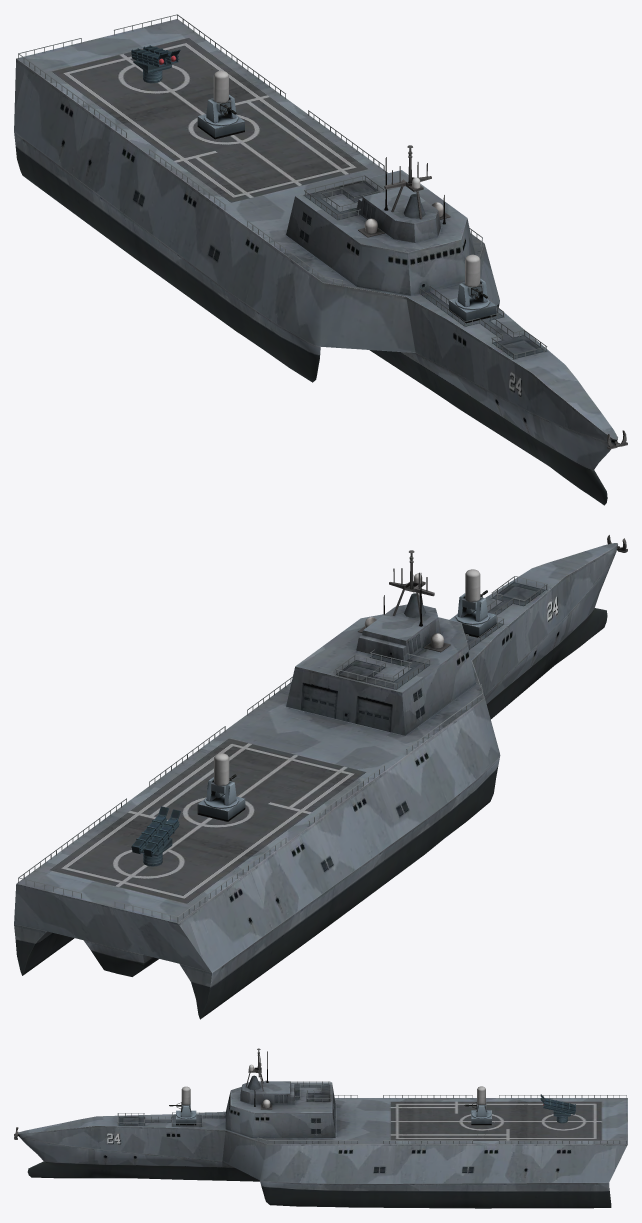
3 views of the same model, one above another, from view 1: azimuth 30°, elevation 25°; view 2: azimuth 150°, elevation 25°; view 3: azimuth 270°, elevation 25° (orthographic). The views are drawn at different scales.
Parts seen in each view (by area): view 1: Object_4, Object_2, Object_3; view 2: Object_4, Object_2, Object_3; view 3: Object_4, Object_2, Object_3.
Boxes of the visible parts, left/top/right/bottom form: Object_4: left=14, top=14, right=627, bottom=505; Object_2: left=197, top=70, right=496, bottom=323; Object_3: left=131, top=45, right=180, bottom=83; Object_4: left=14, top=535, right=627, bottom=1019; Object_2: left=197, top=569, right=496, bottom=821; Object_3: left=131, top=806, right=180, bottom=866; Object_4: left=14, top=1048, right=627, bottom=1208; Object_2: left=169, top=1086, right=491, bottom=1125; Object_3: left=540, top=1094, right=575, bottom=1123.
Bounding box in the file's own units: 95.28 × 103 × 425.
Materials: 3 (3 with a texture image).
